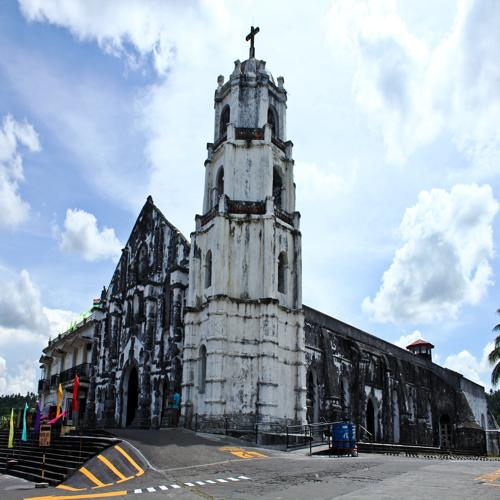Daraga Church: (90, 17, 315, 444)
